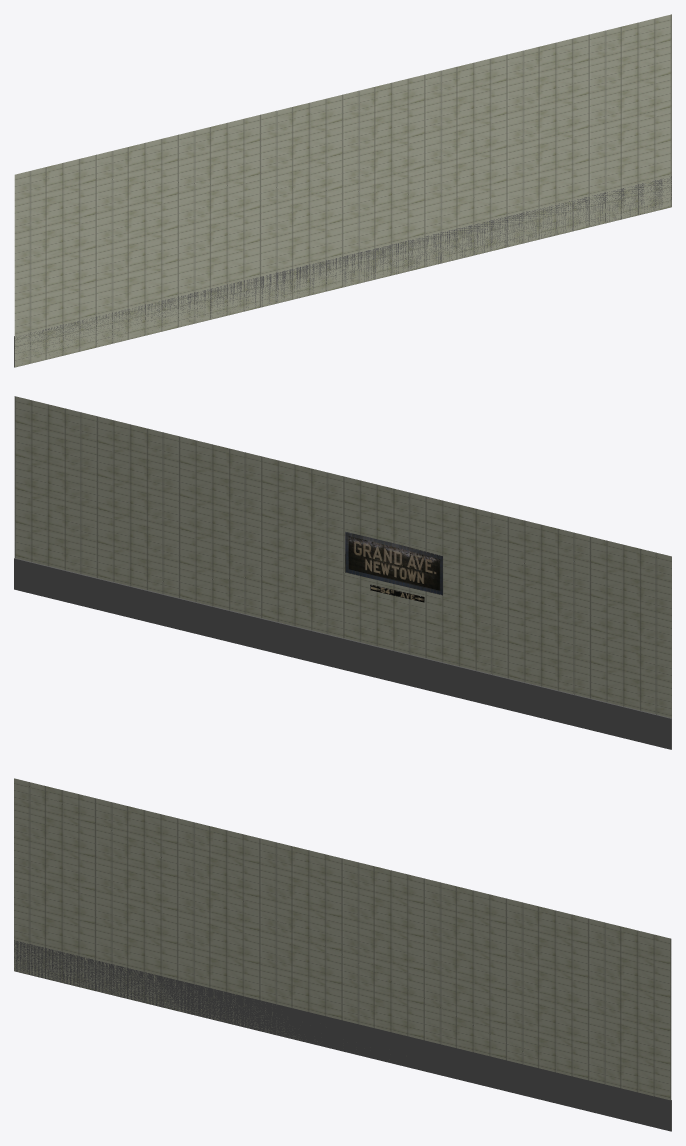
Rendered from rearWall.fbx.
3 renders of one model, top to bottom at view 1: azimuth 30°, elevation 25°; view 2: azimuth 150°, elevation 25°; view 3: azimuth 330°, elevation 25°, orthographic.
Visible parts, largest first — view 1: pPlane5, pCube33; view 2: pPlane5, pCube33, pCube34; view 3: pPlane5, pCube33.
Part boxes in pixels (bbox=[...]): pPlane5: bbox=[14, 14, 671, 367]; pCube33: bbox=[14, 176, 671, 367]; pPlane5: bbox=[14, 396, 671, 718]; pCube33: bbox=[14, 558, 671, 749]; pCube34: bbox=[345, 531, 443, 602]; pPlane5: bbox=[14, 778, 671, 1100]; pCube33: bbox=[14, 940, 671, 1131].
Size of the model in its own units: 457 by 128 by 1.03.
3 materials, 2 textured.
